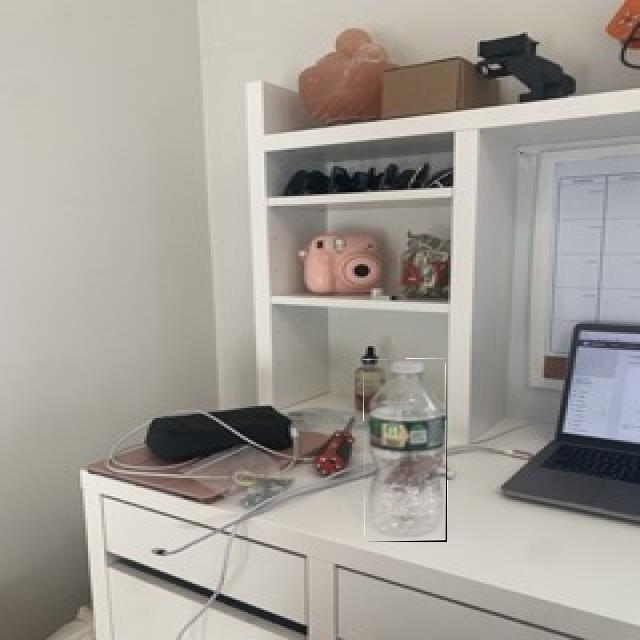water_bottle: (364, 359, 447, 542)
